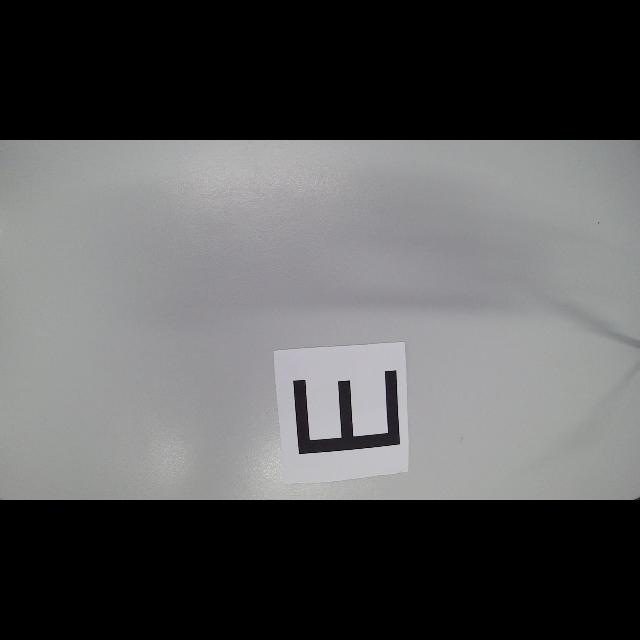FAKE: (293, 370, 402, 456)
